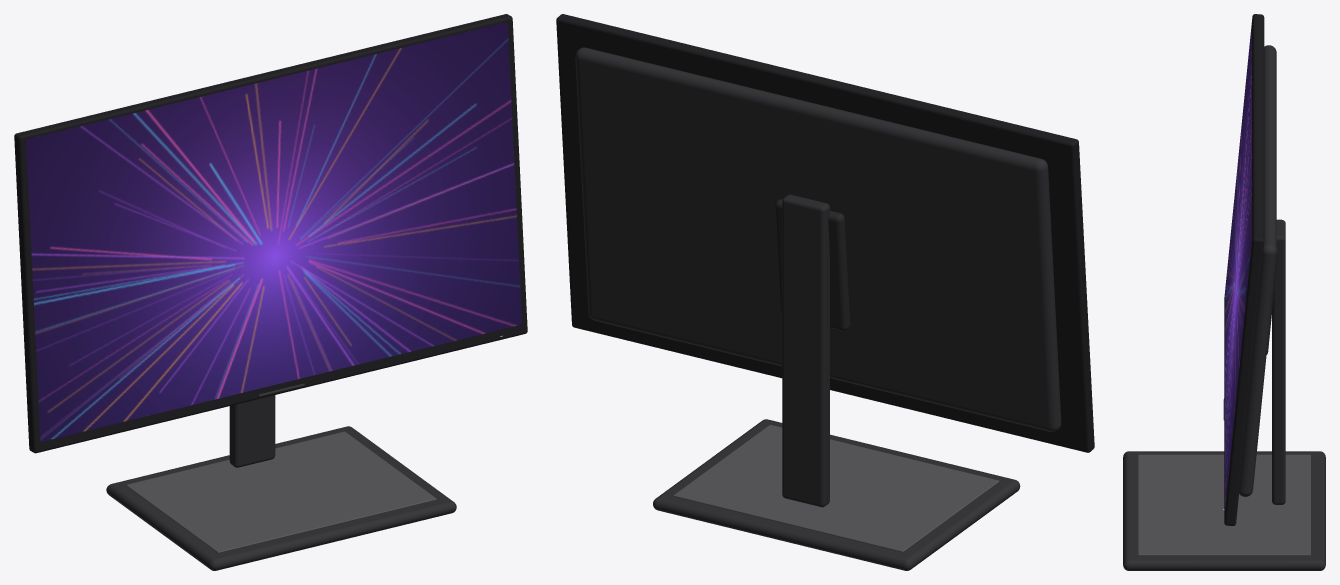
File: monitor-24-144hz.glb
The picture shows the model from 3 angles, left to right: view 1: azimuth 30°, elevation 25°; view 2: azimuth 150°, elevation 25°; view 3: azimuth 270°, elevation 25°; orthographic projection. The views are drawn at different scales.
Parts seen in each view (by area): view 1: screen, baseplate, frame, base, neck; view 2: back, frame, baseplate, neck, base, hinge; view 3: baseplate, frame, base, back, screen, neck.
Part boxes in pixels (x1,y1,x2,y2): screen: (26,22,521,441); baseplate: (126,431,436,553); frame: (14,14,527,453); base: (106,426,456,570); neck: (229,395,275,467); back: (575,47,1061,432); frame: (556,14,1094,452); baseplate: (673,424,999,552); neck: (782,194,829,507); base: (653,419,1020,570); hinge: (775,199,850,330); baseplate: (1138,454,1310,555); frame: (1224,14,1264,525); base: (1123,451,1325,570); back: (1239,45,1276,496); screen: (1225,22,1251,509); neck: (1272,219,1285,504).
Size of the model in its own units: 0.541 by 0.4361 by 0.205.
Materials: 10 (1 with a texture image).
